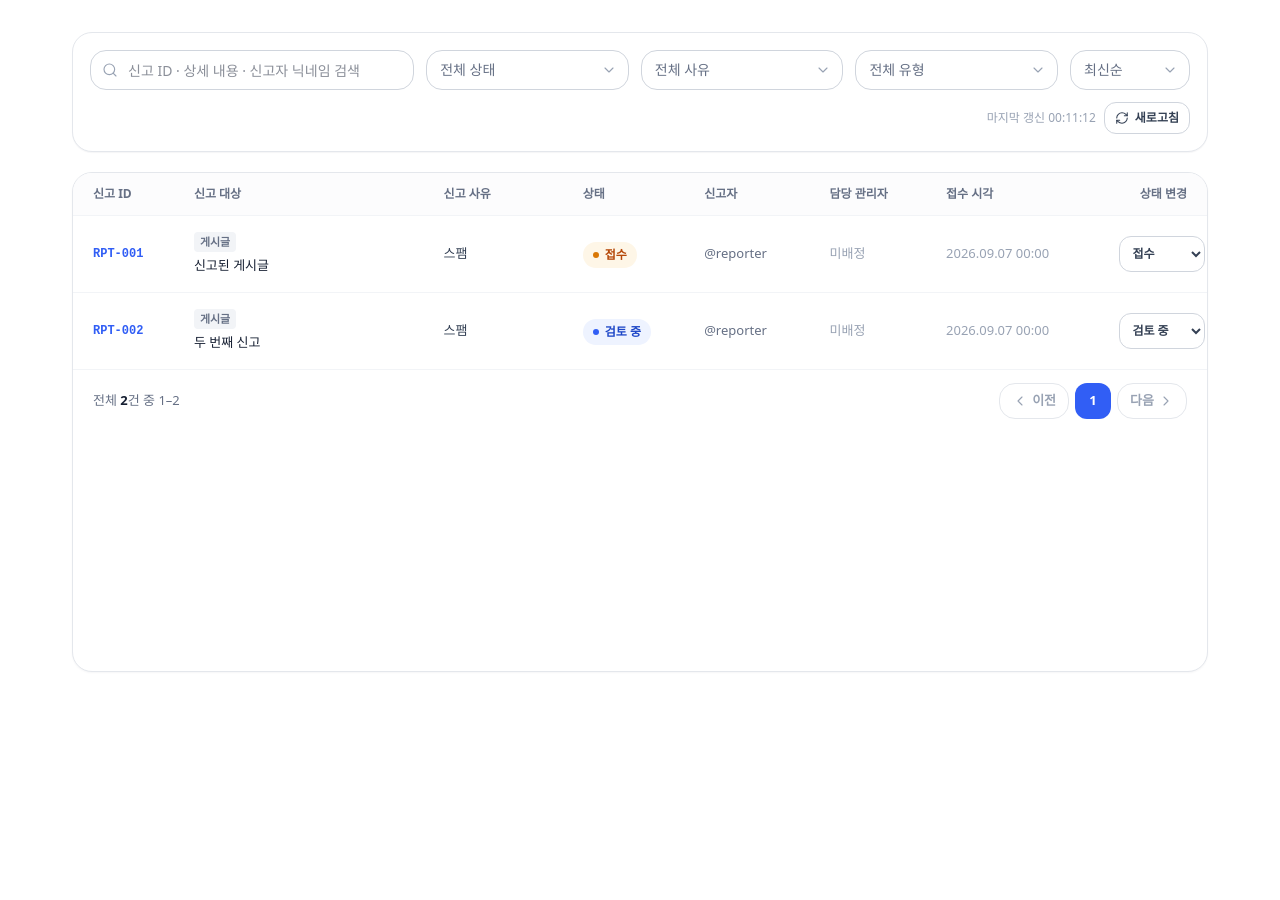
Test case: AdminReportsManagement › applies the PATCH DTO immediately and keeps only that row locked after GET failure
Expected: the link "RPT-001" is shown, x1=93 y1=246 x2=143 y2=260
Expected: the link "RPT-002" is shown, x1=93 y1=324 x2=143 y2=338
Select "처리 완료" in the dropdown named "RPT-001 상태 변경": (1162, 254) x1=1119 y1=236 x2=1205 y2=272
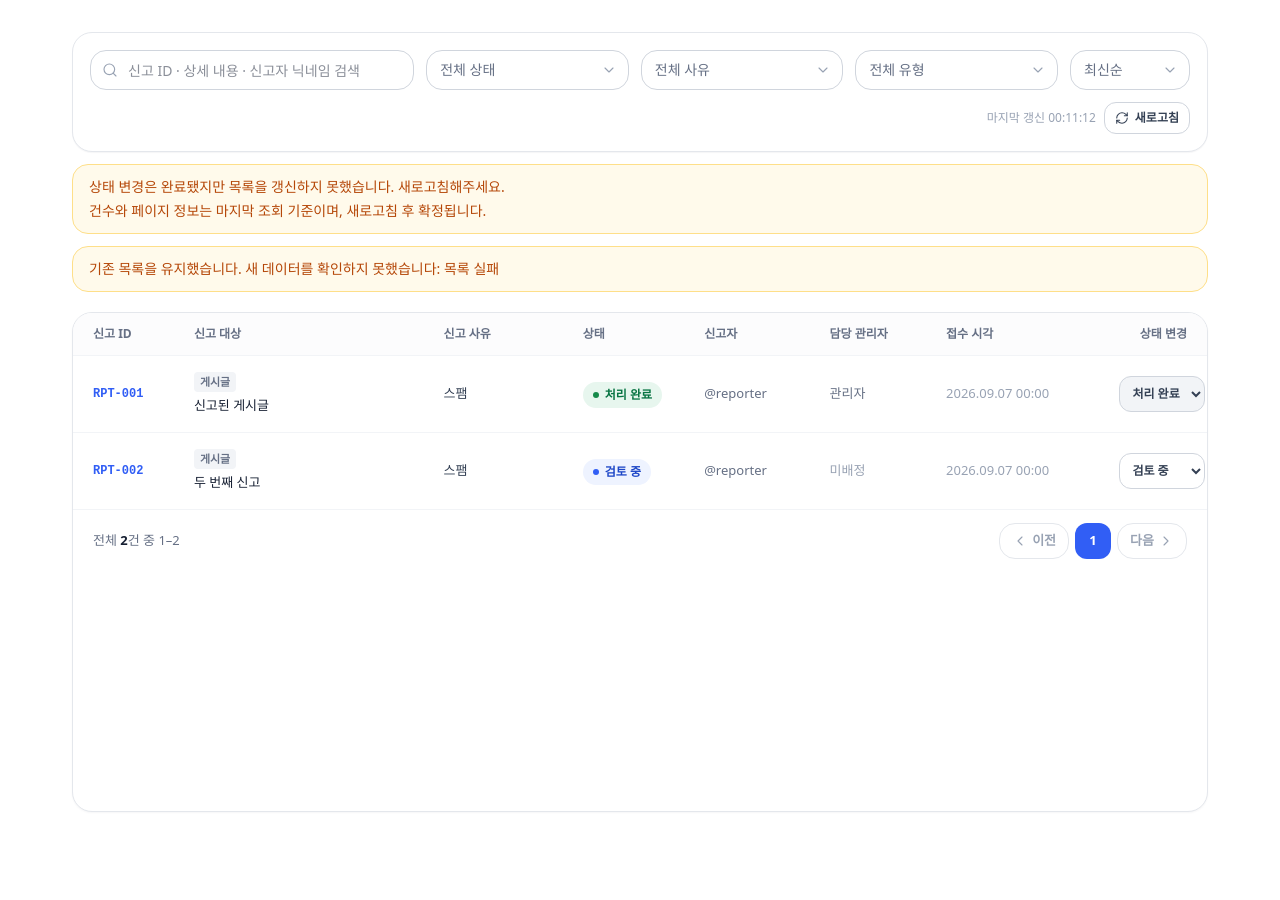
Expected: the text "상태 변경은 완료됐지만 목록을 갱신하지 못했습니다. 새로고침해주세요." is shown, x1=89 y1=177 x2=505 y2=196
Click the button "새로고침": (1147, 118) x1=1104 y1=102 x2=1190 y2=134
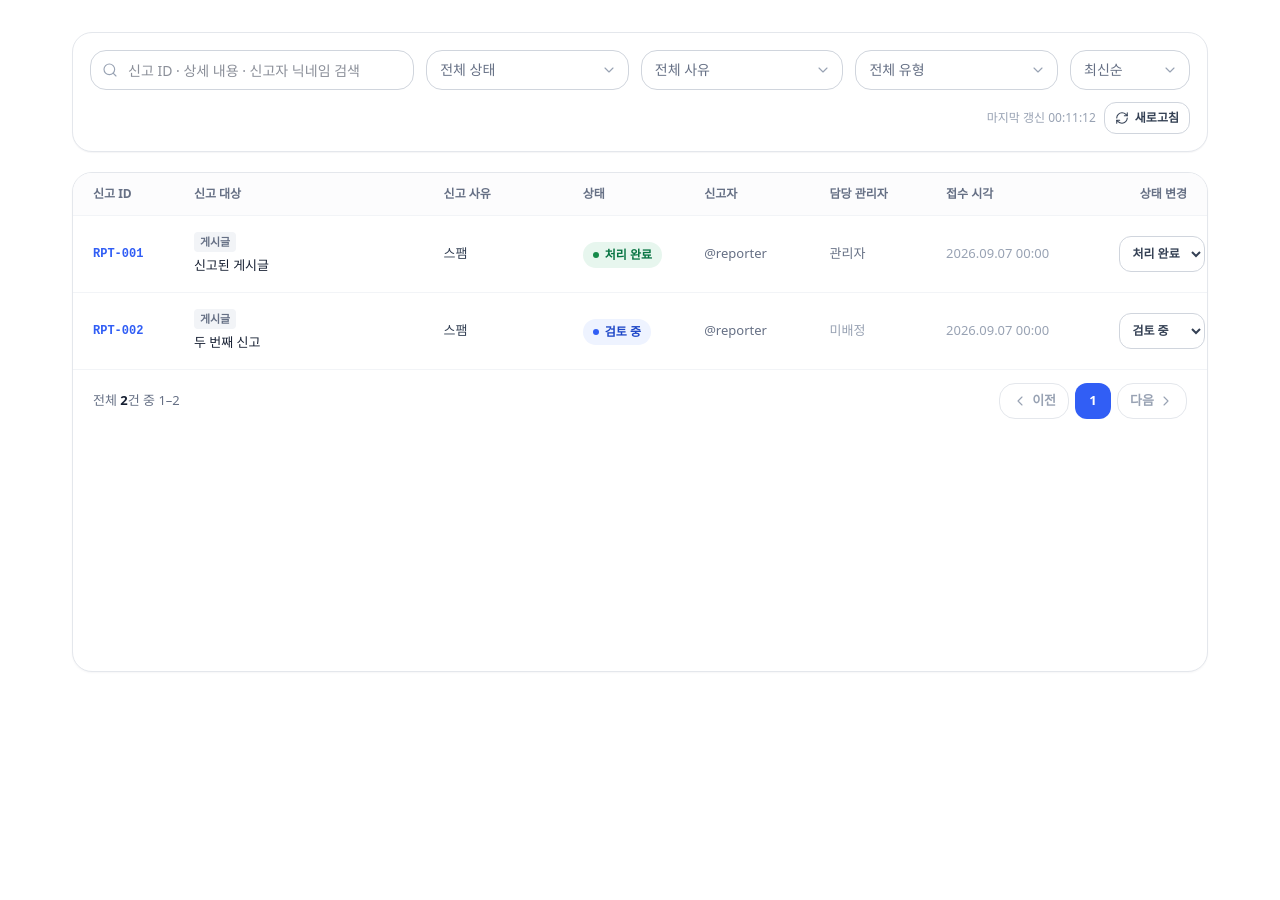
Expected: the text "상태 변경은 완료됐지만 목록을 갱신하지 못했습니다. 새로고침해주세요." is gone
